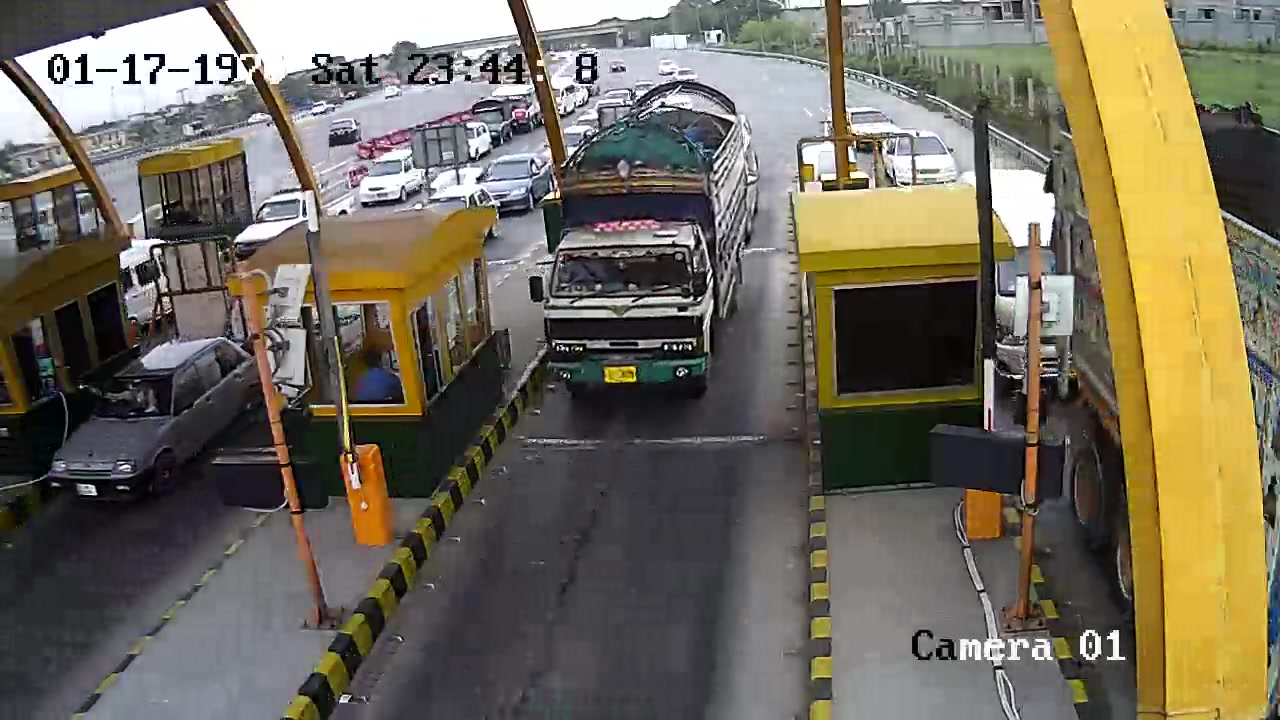F5: (544, 80, 757, 400)
